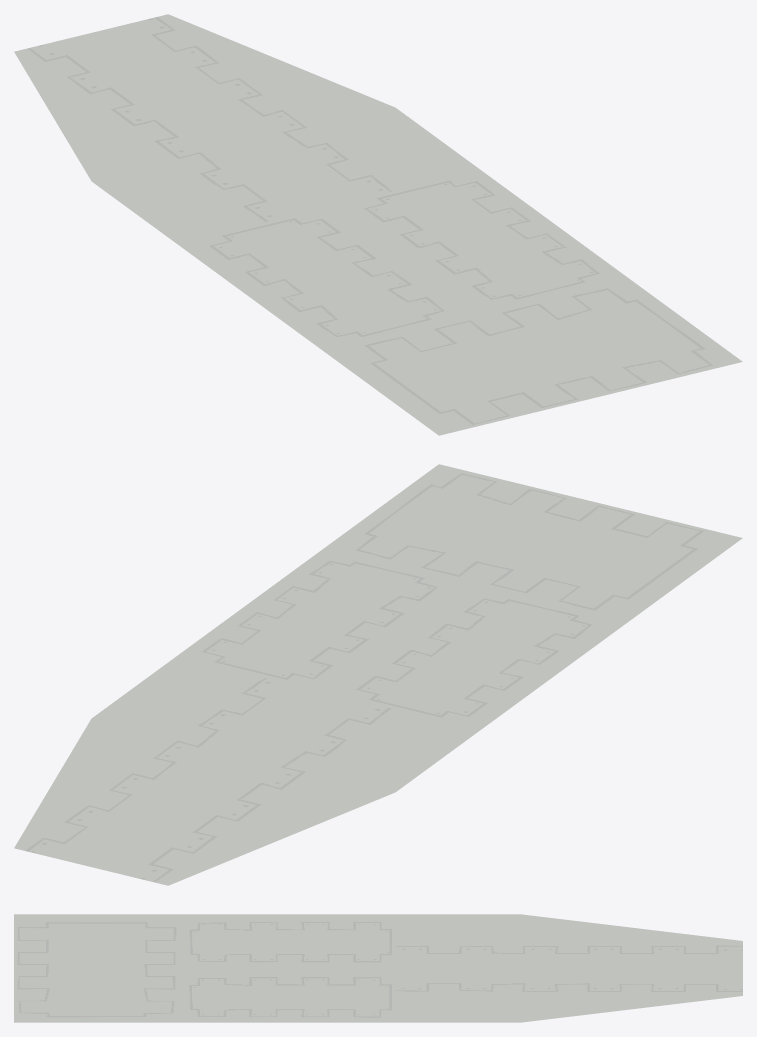
Rendered from floor.gltf.
The picture shows the model from 3 angles, top to bottom: view 1: azimuth 30°, elevation 25°; view 2: azimuth 150°, elevation 25°; view 3: azimuth 270°, elevation 25°; orthographic projection. The views are drawn at different scales.
Visible parts, largest first — view 1: floor; view 2: floor; view 3: floor.
Boxes of the visible parts, <box> form: floor: <box>14,14,742,435</box>; floor: <box>14,464,742,885</box>; floor: <box>14,914,742,1022</box>.
Bounding box in the file's own units: 12 × 0.0104 × 34.18.
Materials: 1 (1 with a texture image).
